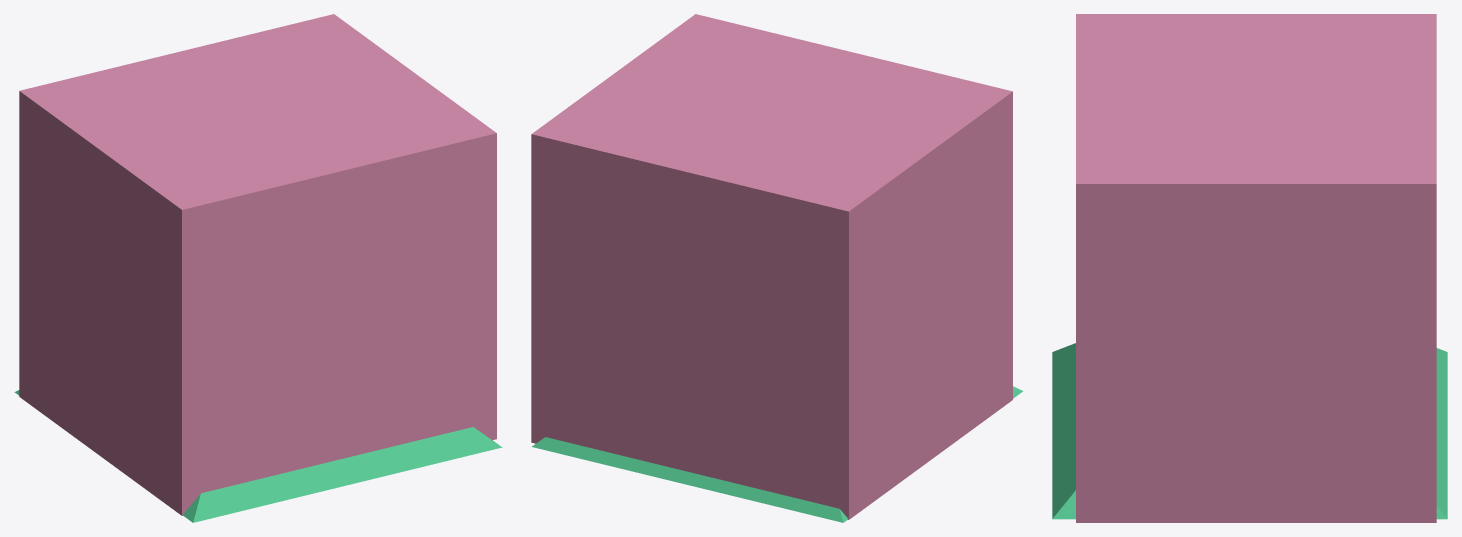
The model's file is tree_oak_bush_a.dae.
3 renders of one model, left to right at view 1: azimuth 30°, elevation 25°; view 2: azimuth 150°, elevation 25°; view 3: azimuth 270°, elevation 25°, orthographic. The views are drawn at different scales.
Visible parts, largest first — view 1: Untitled, Colmesh-1; view 2: Untitled, Colmesh-1; view 3: Untitled, Colmesh-1.
Boxes of the visible parts, x1,y1,x2,y2 form: Untitled: [19, 14, 496, 515]; Colmesh-1: [14, 390, 502, 522]; Untitled: [531, 14, 1012, 519]; Colmesh-1: [532, 386, 1023, 522]; Untitled: [1076, 14, 1436, 522]; Colmesh-1: [1052, 343, 1447, 519].
Bounding box in the file's own units: 2.04 × 2 × 1.89.
